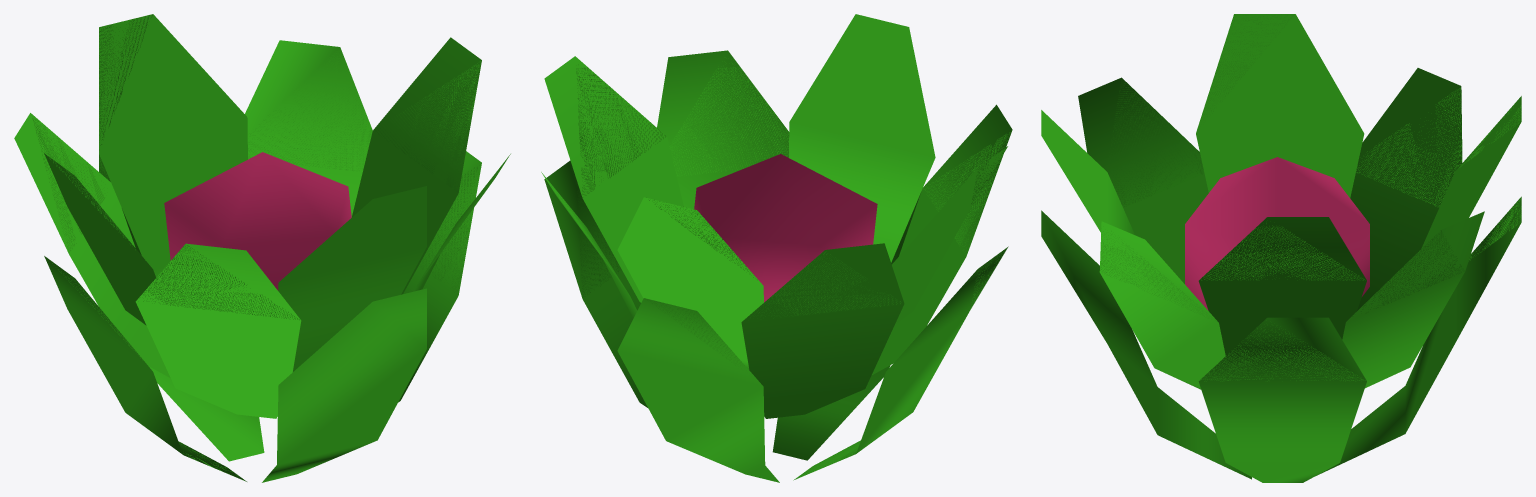
The model's file is Plant_6.obj.
3 renders of one model, left to right at view 1: azimuth 30°, elevation 25°; view 2: azimuth 150°, elevation 25°; view 3: azimuth 270°, elevation 25°, orthographic.
Parts seen in each view (by area): view 1: Plant_6; view 2: Plant_6; view 3: Plant_6.
Boxes of the visible parts, x1,y1,x2,y2 form: Plant_6: (14,14,510,482); Plant_6: (541,14,1012,482); Plant_6: (1041,14,1521,482).
Size of the model in its own units: 84.03 by 68.49 by 84.03.
